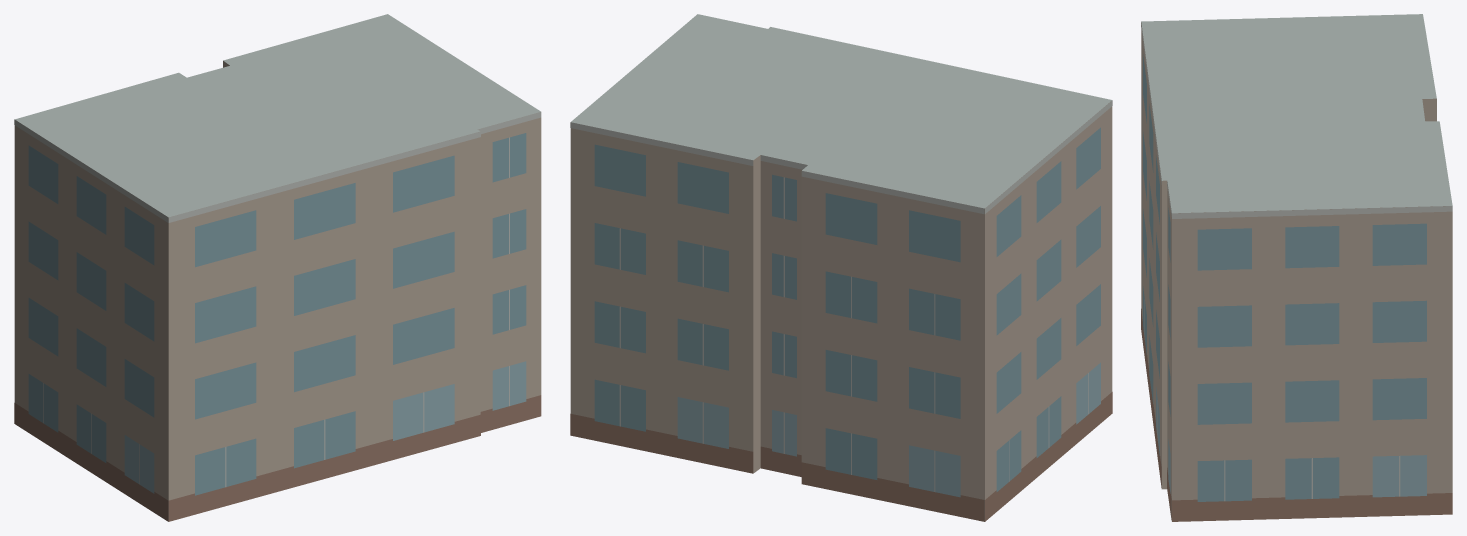
The model's file is survey-upis-32737616.glb.
3 views of the same model, side by side, from view 1: azimuth 30°, elevation 25°; view 2: azimuth 150°, elevation 25°; view 3: azimuth 270°, elevation 25° (orthographic). The views are drawn at different scales.
Parts seen in each view (by area): view 1: survey-upis-32737616.tmp; view 2: survey-upis-32737616.tmp; view 3: survey-upis-32737616.tmp.
Boxes of the visible parts, bbox=[...] form: survey-upis-32737616.tmp: bbox=[14, 14, 541, 521]; survey-upis-32737616.tmp: bbox=[570, 14, 1112, 521]; survey-upis-32737616.tmp: bbox=[1141, 14, 1452, 521].
Bounding box in the file's own units: 18.01 × 13 × 11.9.
